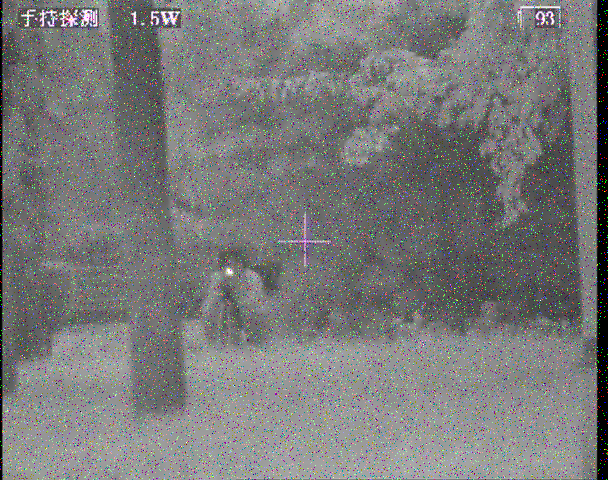my: (223, 267, 236, 279)
